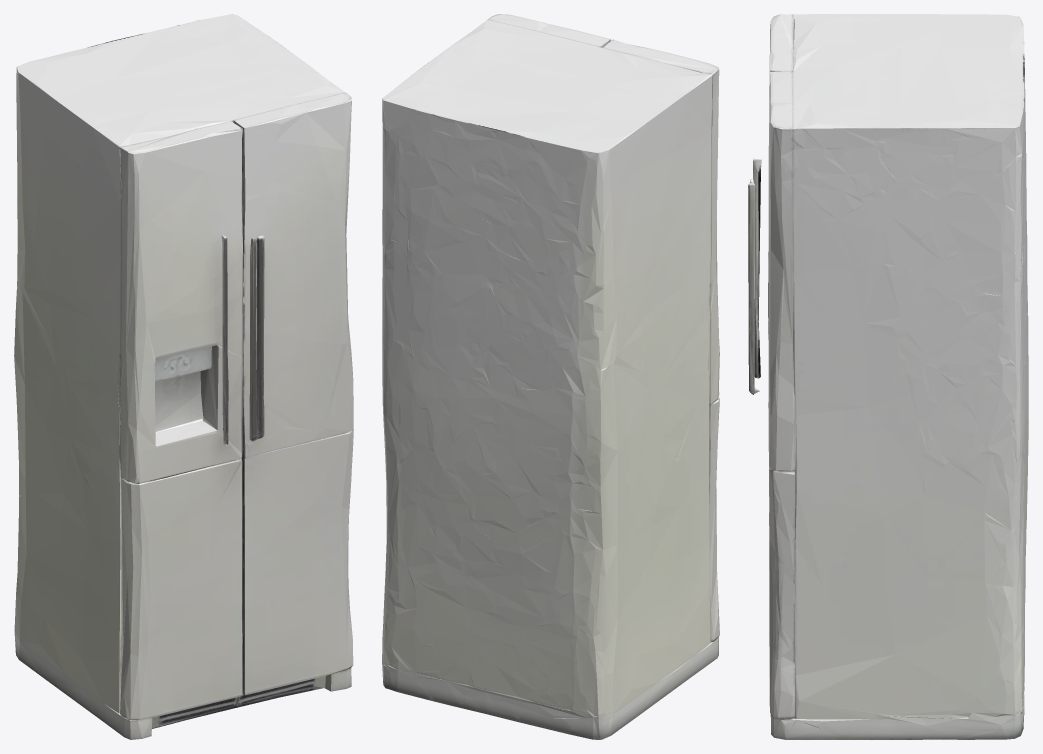
File: fridge.glb
The picture shows the model from 3 angles, left to right: view 1: azimuth 30°, elevation 25°; view 2: azimuth 150°, elevation 25°; view 3: azimuth 270°, elevation 25°; orthographic projection. The views are drawn at different scales.
Parts seen in each view (by area): view 1: world; view 2: world; view 3: world.
Boxes of the visible parts, box(x1,y1,x2,y2) form: world: box(14, 14, 353, 739); world: box(382, 14, 719, 739); world: box(748, 14, 1028, 739).
Size of the model in its own units: 0.4035 by 1 by 0.4158.
1 material, 1 textured.
